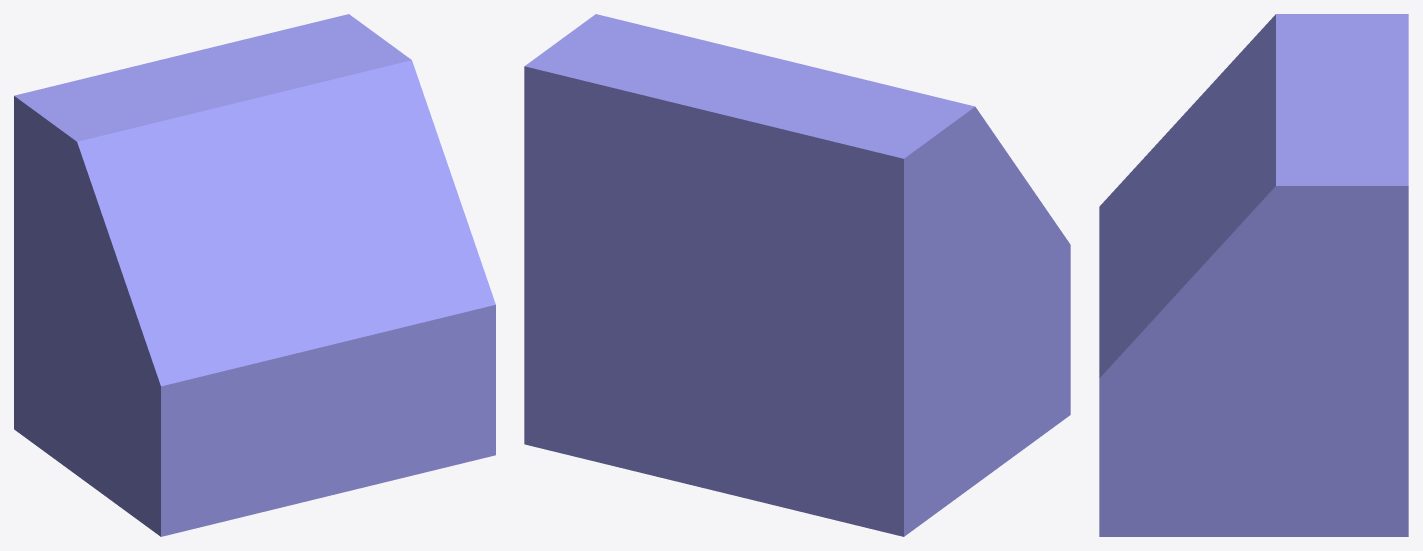
Rendered from ULD_SCB_type1_cover.FBX.
3 renders of one model, left to right at view 1: azimuth 30°, elevation 25°; view 2: azimuth 150°, elevation 25°; view 3: azimuth 270°, elevation 25°, orthographic. The views are drawn at different scales.
Visible parts, largest first — view 1: Cover_top; view 2: Cover_top; view 3: Cover_top.
Part boxes in pixels (<box>): Cover_top: <box>14,14,495,536</box>; Cover_top: <box>524,14,1070,536</box>; Cover_top: <box>1099,14,1408,536</box>.
Size of the model in its own units: 307 by 234 by 293.
